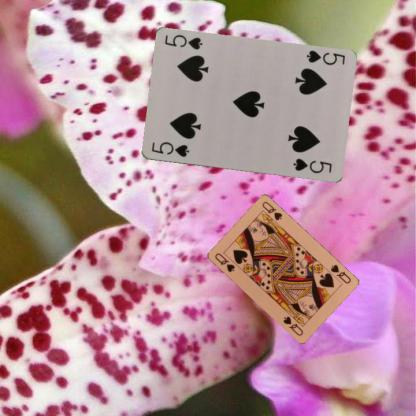5s: (303, 47, 346, 67), (148, 140, 190, 158)
Qs: (327, 262, 352, 285), (212, 250, 236, 273)
